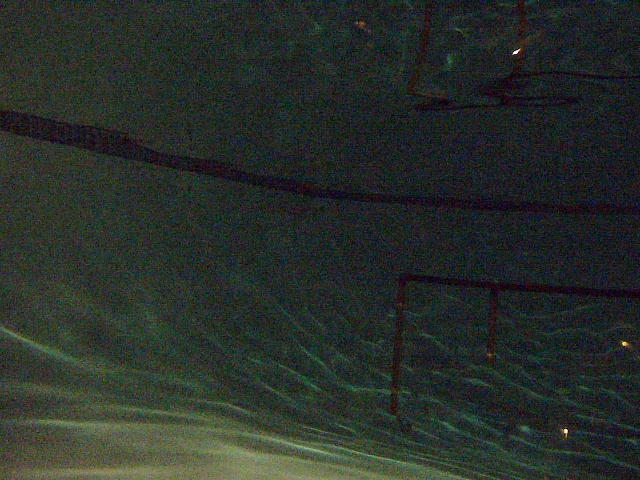Gate: (387, 280, 405, 412), (485, 289, 498, 366)
